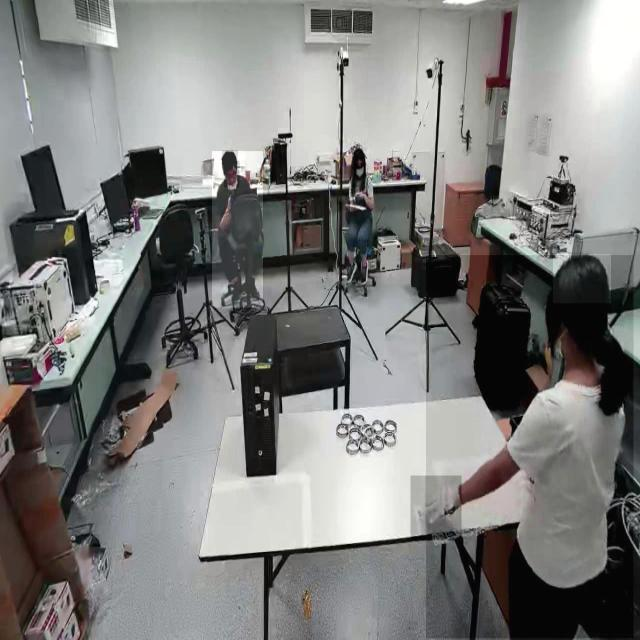face_mask: (354, 163, 366, 177)
face_nomask: (224, 161, 240, 187)
hand_glove: (410, 476, 462, 542)
head_nohelmet: (553, 254, 611, 303), (222, 150, 238, 164), (353, 148, 367, 160)
person: (426, 255, 634, 639), (211, 151, 263, 309), (342, 147, 374, 290)
shoes: (345, 258, 358, 285), (360, 256, 370, 286)
